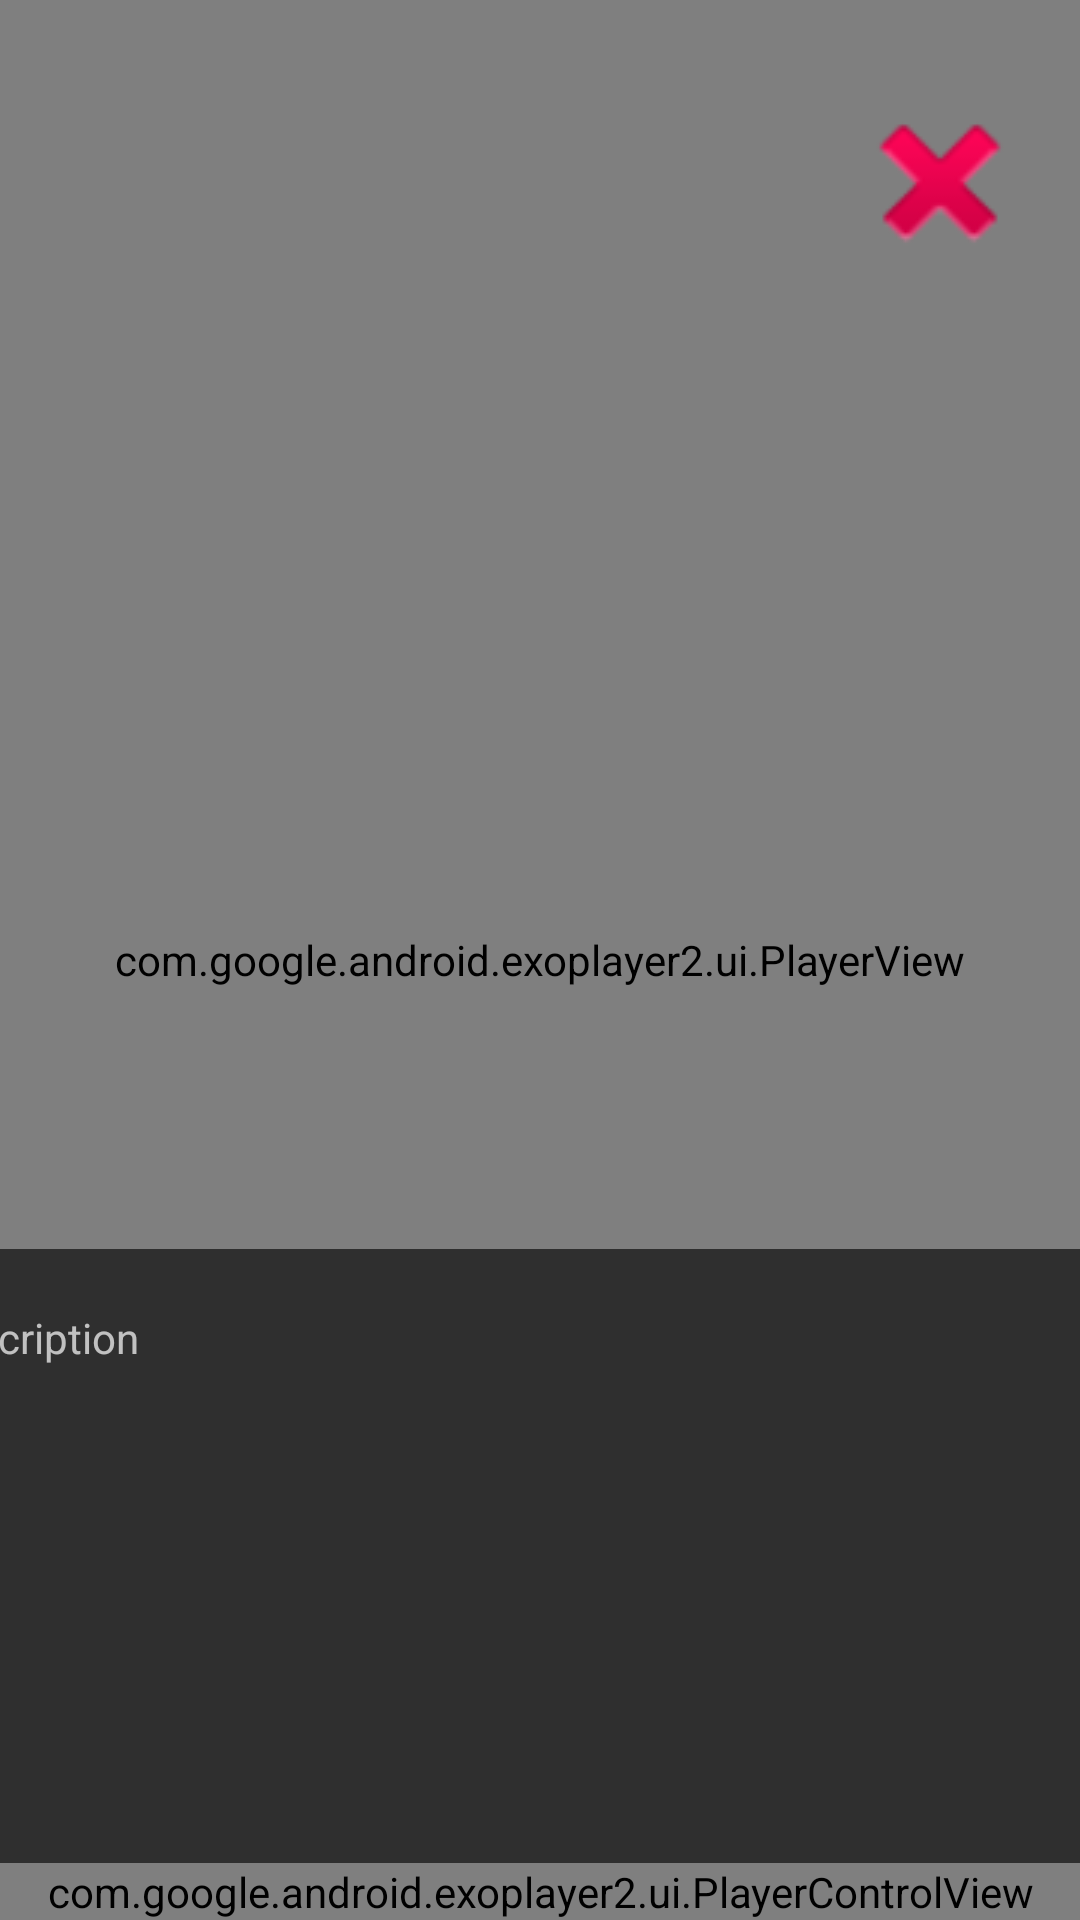

Point at icon controls on the screen. Image size 1080*1920, points as (x,y).
delete: (940,183)
